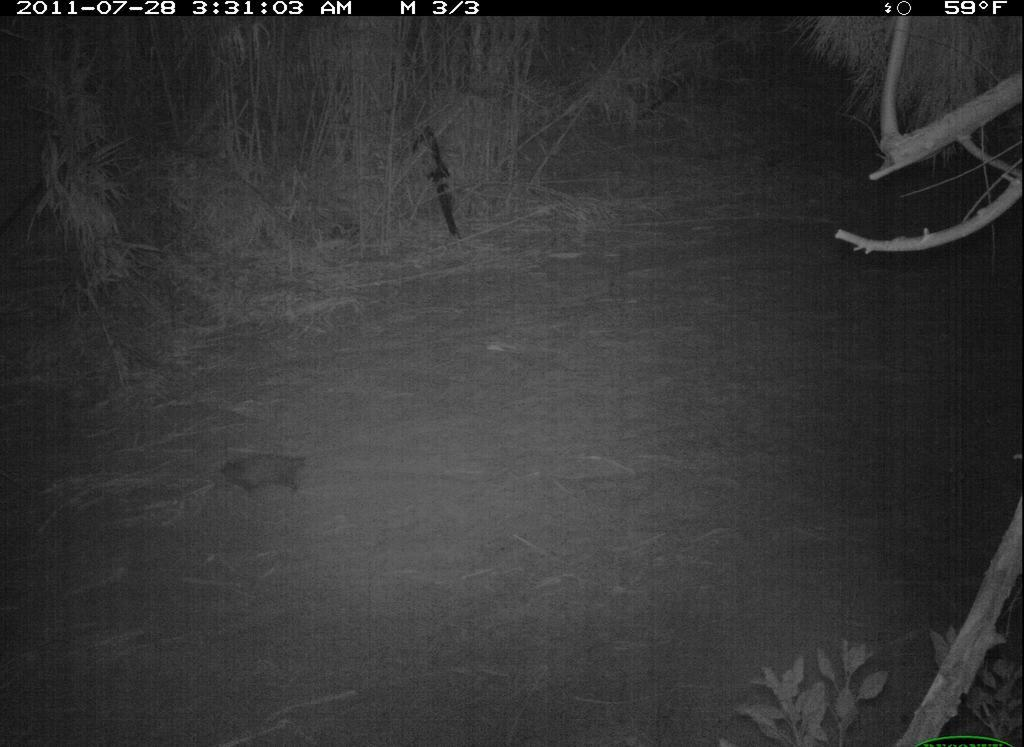opossum: (213, 449, 333, 510)
